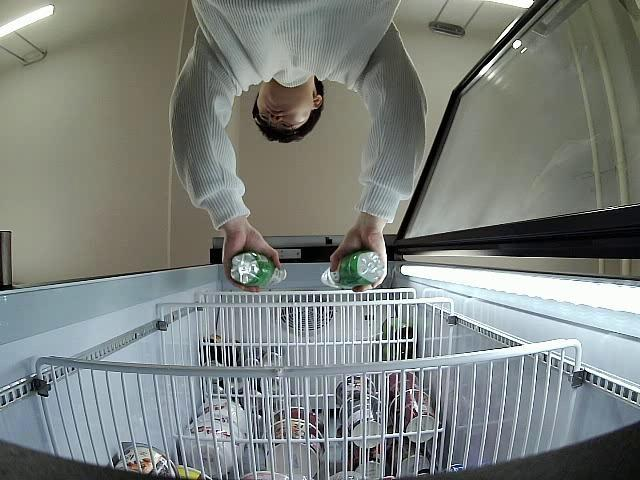18_trevi: (322, 250, 384, 288), (228, 254, 288, 288)
